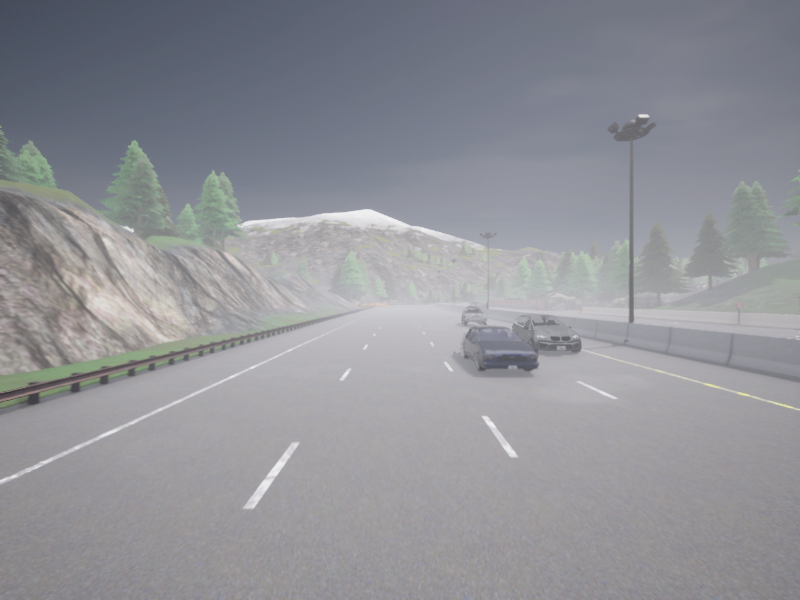vehicle: (461, 326, 539, 371), (512, 314, 581, 352), (462, 306, 486, 325), (477, 303, 486, 307), (471, 302, 477, 305), (481, 301, 486, 304), (471, 301, 473, 303), (477, 302, 480, 303)
